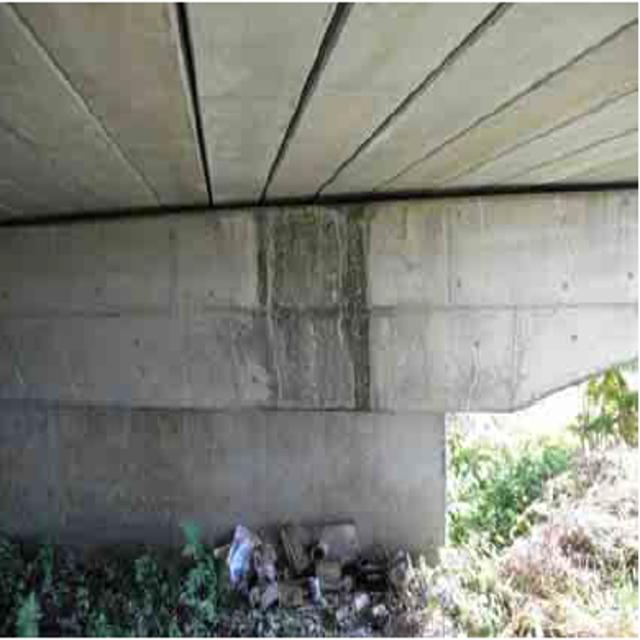leakage: (253, 196, 376, 417)
